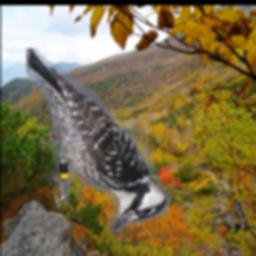Woodpecker: (25, 49, 169, 233)
